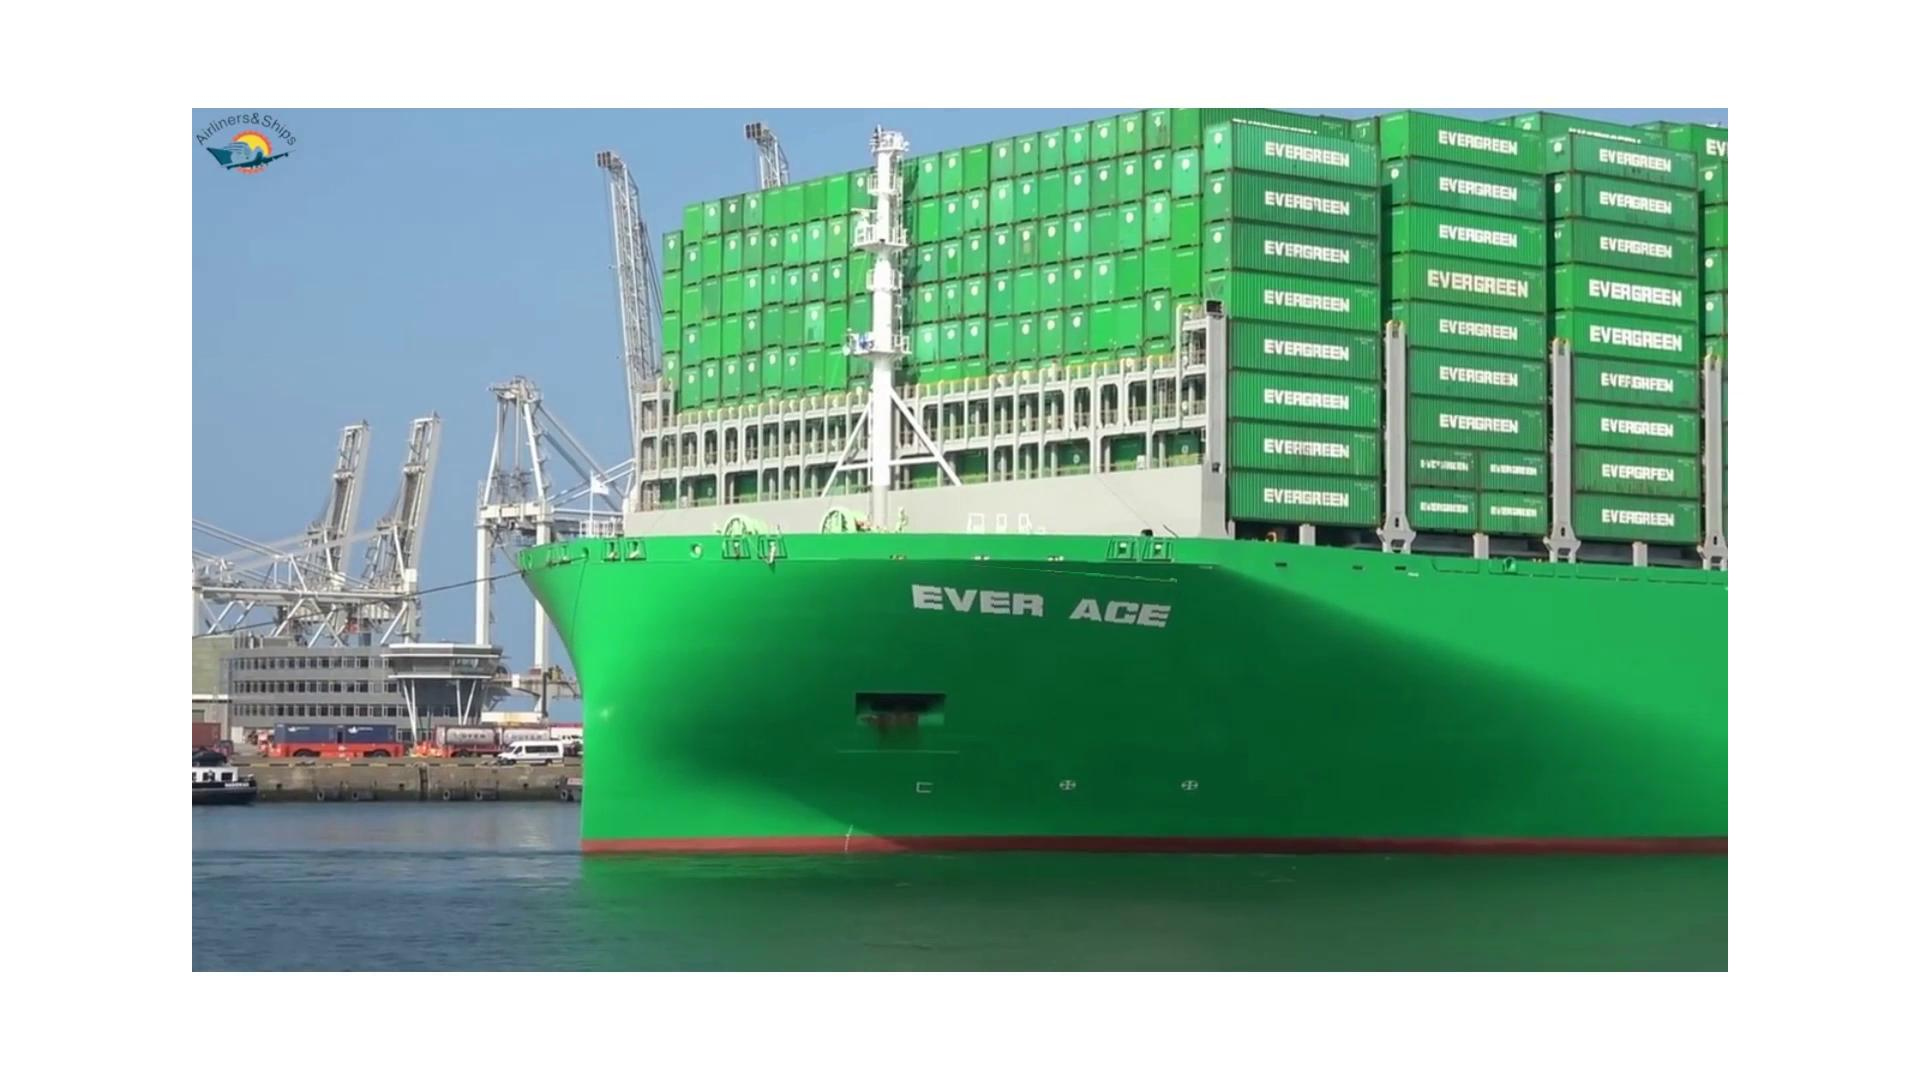OCR: (898, 560, 1178, 633)
